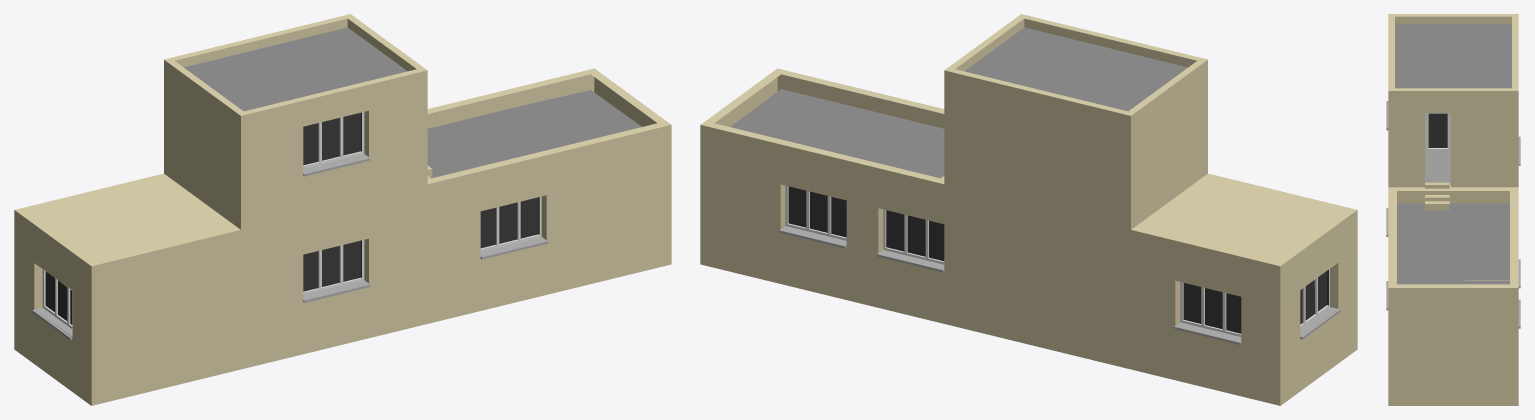
The model's file is nadog_3.gltf.
3 views of the same model, side by side, from view 1: azimuth 30°, elevation 25°; view 2: azimuth 150°, elevation 25°; view 3: azimuth 270°, elevation 25° (orthographic). The views are drawn at different scales.
Parts seen in each view (by area): view 1: nadog_2; view 2: nadog_2; view 3: nadog_2.
Boxes of the visible parts, x1,y1,x2,y2 form: nadog_2: [14, 14, 671, 405]; nadog_2: [700, 14, 1357, 405]; nadog_2: [1386, 14, 1520, 405].
Size of the model in its own units: 14.02 by 5.83 by 3.32.
